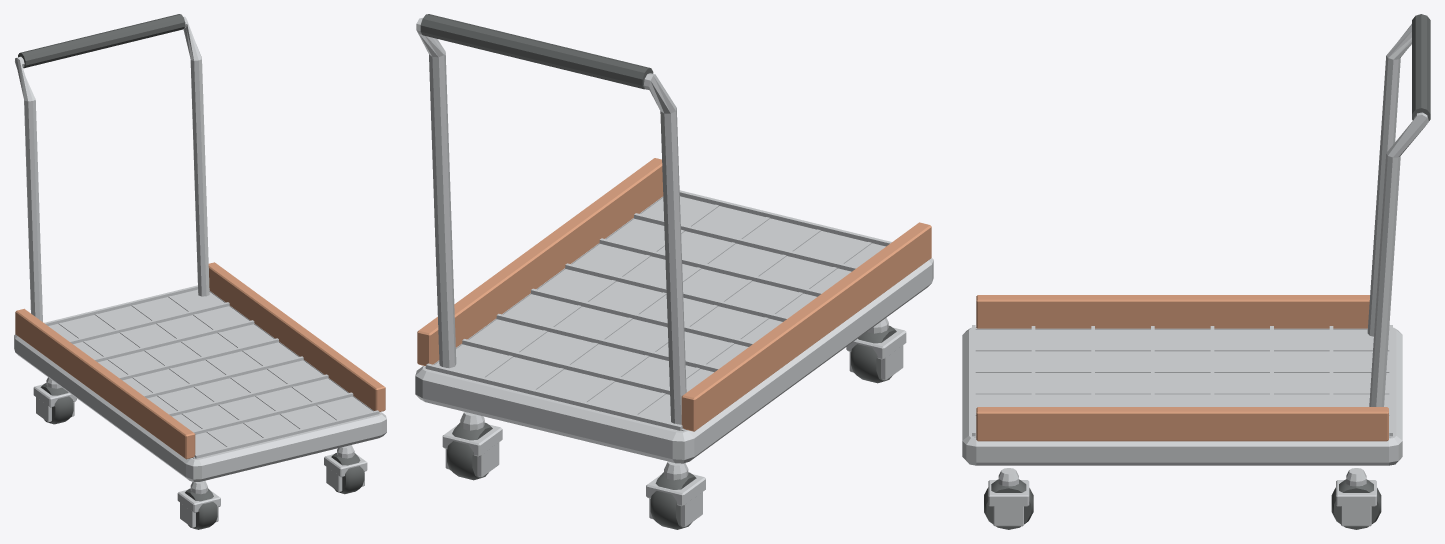
Rendered from garden-centre-and-florist-plant-trolley-59449975__17776.glb.
The picture shows the model from 3 angles, left to right: view 1: azimuth 30°, elevation 25°; view 2: azimuth 150°, elevation 25°; view 3: azimuth 270°, elevation 25°; orthographic projection. The views are drawn at different scales.
Visible parts, largest first — view 1: plant-trolley; view 2: plant-trolley; view 3: plant-trolley.
Boxes of the visible parts, bbox=[...] form: plant-trolley: bbox=[14, 14, 386, 529]; plant-trolley: bbox=[415, 14, 933, 529]; plant-trolley: bbox=[962, 14, 1430, 529].
Bounding box in the file's own units: 0.602 × 1.01 × 1.01.
